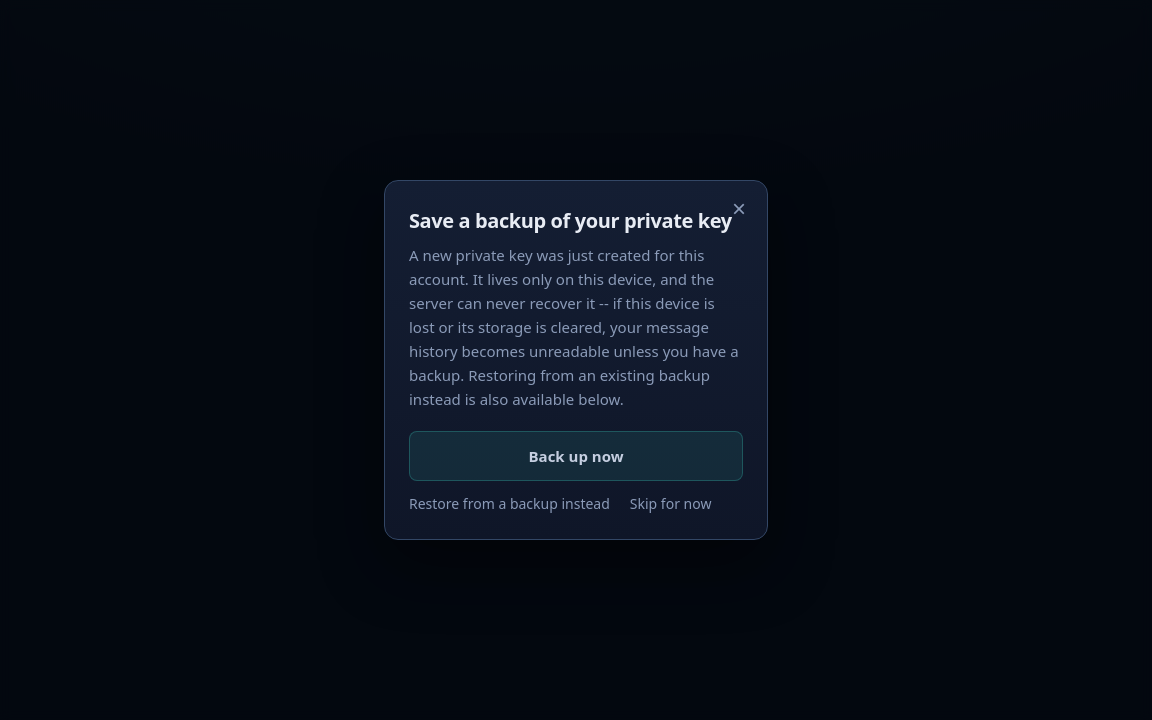
it: IdentityBackupPrompt › switches to the backup dialog on Back up now
The width and height of the screenshot is (1152, 720).
Click the button "Back up now": (576, 456) [409,431,743,481]
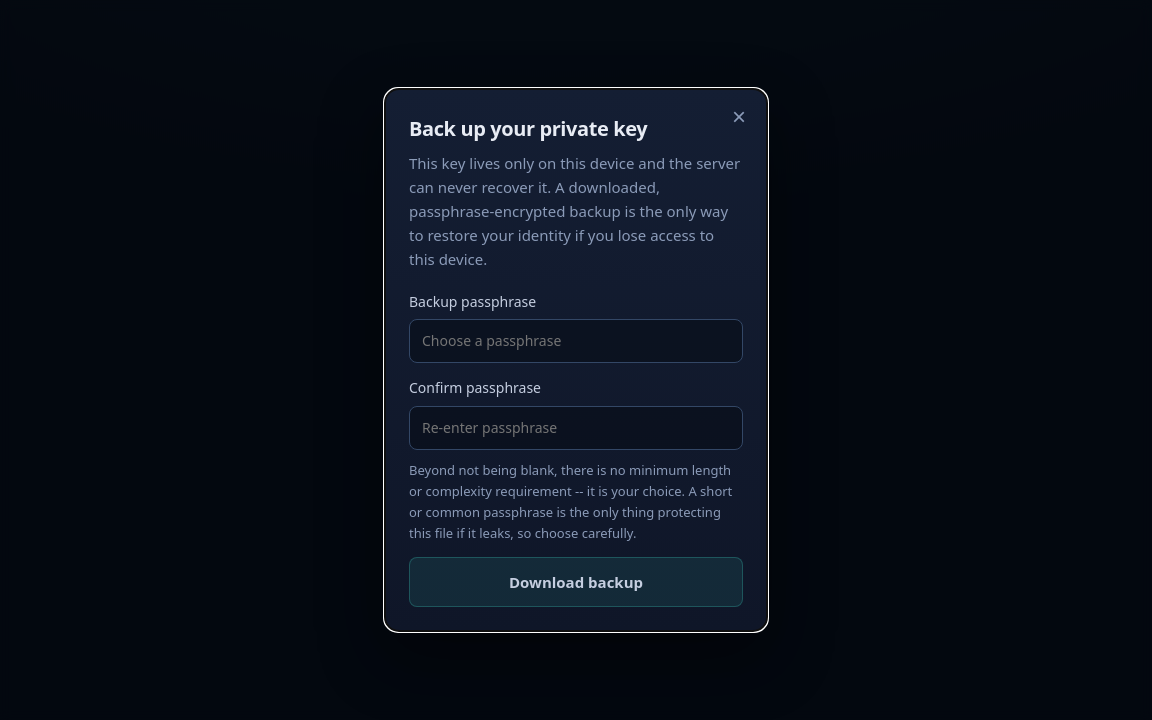
expect the heading "Back up your private key" is shown: met, box [409,115,647,142]
